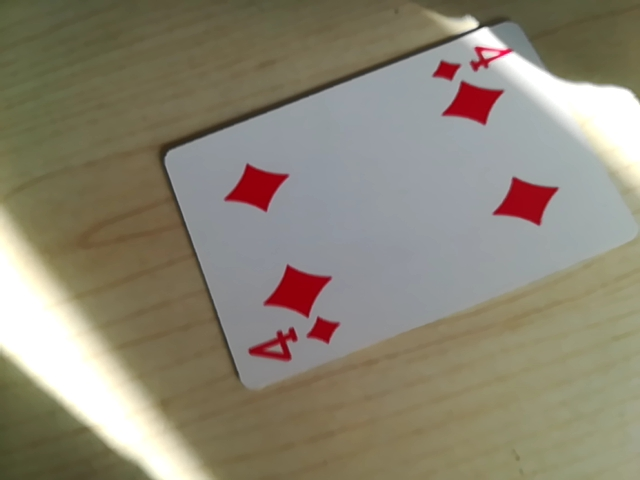fk 4: (244, 313, 344, 371), (433, 37, 519, 85)
